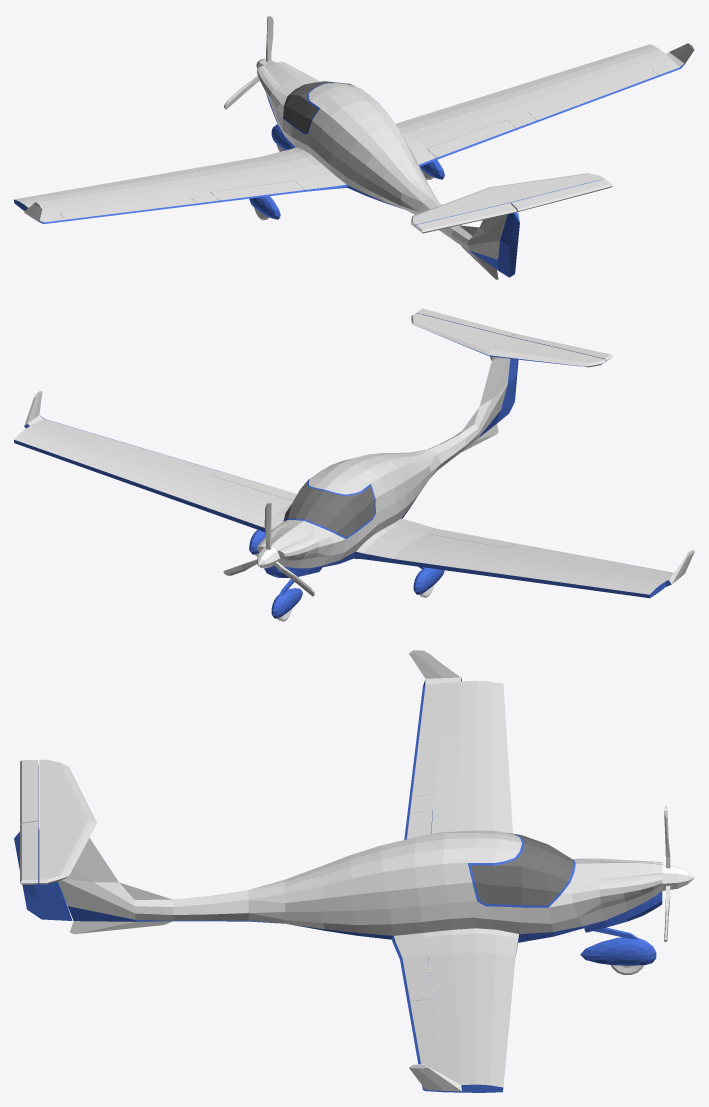
The model's file is airplane_Dominad.fbx.
3 views of the same model, one above another, from view 1: azimuth 30°, elevation 25°; view 2: azimuth 150°, elevation 25°; view 3: azimuth 270°, elevation 25° (orthographic). The views are drawn at different scales.
Parts seen in each view (by area): view 1: mainframe, aileron_right, aileron_left, flap_right, front_hatch.001, elevator_right, rudder, elevator_left, flap_left, front_hatch, Sphere; view 2: mainframe, front_hatch.001, front_hatch, aileron_right, Sphere, aileron_left, flap_right, rudder, Sphere.001, flap_left, elevator_right, elevator_left; view 3: mainframe, front_hatch.001, aileron_left, front_hatch, Sphere.001, rudder, aileron_right, flap_right, elevator_left, elevator_right, flap_left.
Boxes of the visible parts, x1,y1,x2,y2 form: mainframe: (14, 43, 694, 279); aileron_right: (528, 68, 659, 121); aileron_left: (59, 195, 197, 221); flap_right: (427, 120, 516, 159); front_hatch.001: (283, 81, 354, 132); elevator_right: (511, 179, 613, 211); rudder: (497, 212, 519, 277); elevator_left: (415, 203, 516, 233); flap_left: (211, 181, 305, 202); front_hatch: (283, 82, 370, 134); Sphere: (249, 160, 444, 219); mainframe: (14, 313, 694, 598); front_hatch.001: (283, 480, 374, 537); front_hatch: (284, 471, 375, 538); aileron_right: (60, 425, 196, 468); Sphere: (249, 530, 444, 594); aileron_left: (529, 547, 658, 573); flap_right: (211, 471, 296, 500); rudder: (497, 358, 518, 422); Sphere.001: (271, 588, 302, 618); flap_left: (427, 528, 515, 547); elevator_right: (416, 308, 516, 336); elevator_left: (511, 334, 613, 361); mainframe: (39, 650, 662, 1092); front_hatch.001: (471, 833, 573, 905); aileron_left: (409, 699, 441, 797); front_hatch: (467, 830, 575, 907); Sphere.001: (580, 937, 656, 965); rudder: (14, 828, 72, 920); aileron_right: (409, 1010, 441, 1073); flap_right: (400, 956, 432, 1002); elevator_left: (20, 759, 38, 824); elevator_right: (20, 821, 38, 884); flap_left: (404, 810, 432, 839).
Size of the model in its own units: 1015 by 703 by 191.
